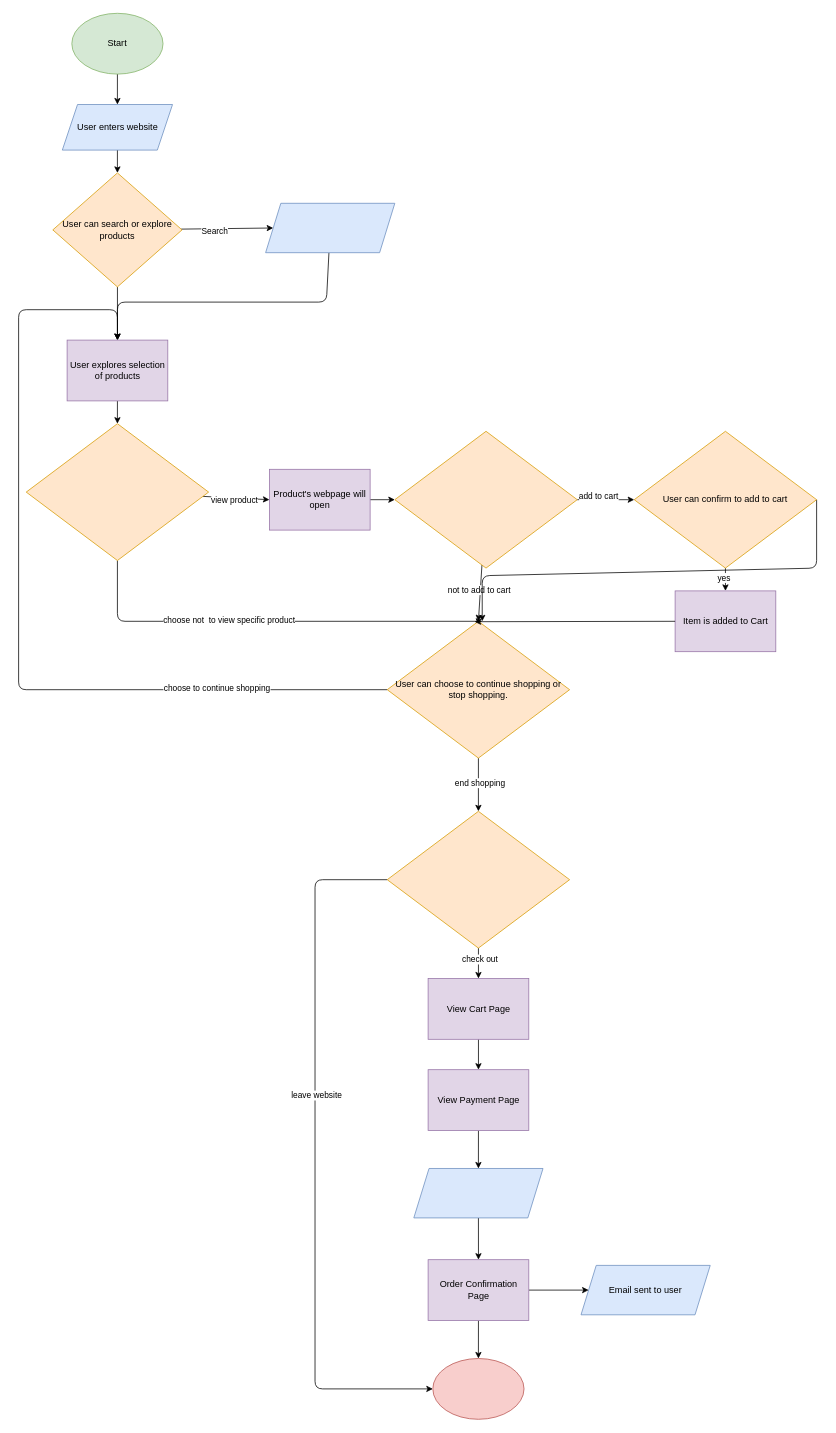
This 836x1433 diagram has some shape labels left out. The centre of each missing label's shape, as x and y in pixels:
"End" belongs at [478,1388].
"User can add to cart or choose to not" belongs at [485,499].
"User can check out or leave website" belongs at [478,879].
"User can explore a specific product or continue shopping other products" belongs at [117,491].
"User inputs Payment" belongs at [478,1193].
"User inputs search data" belongs at [330,228].
